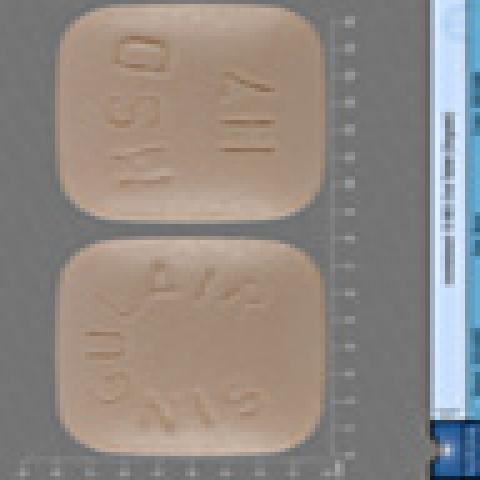Pill: (32, 233, 363, 471), (31, 5, 357, 231)
